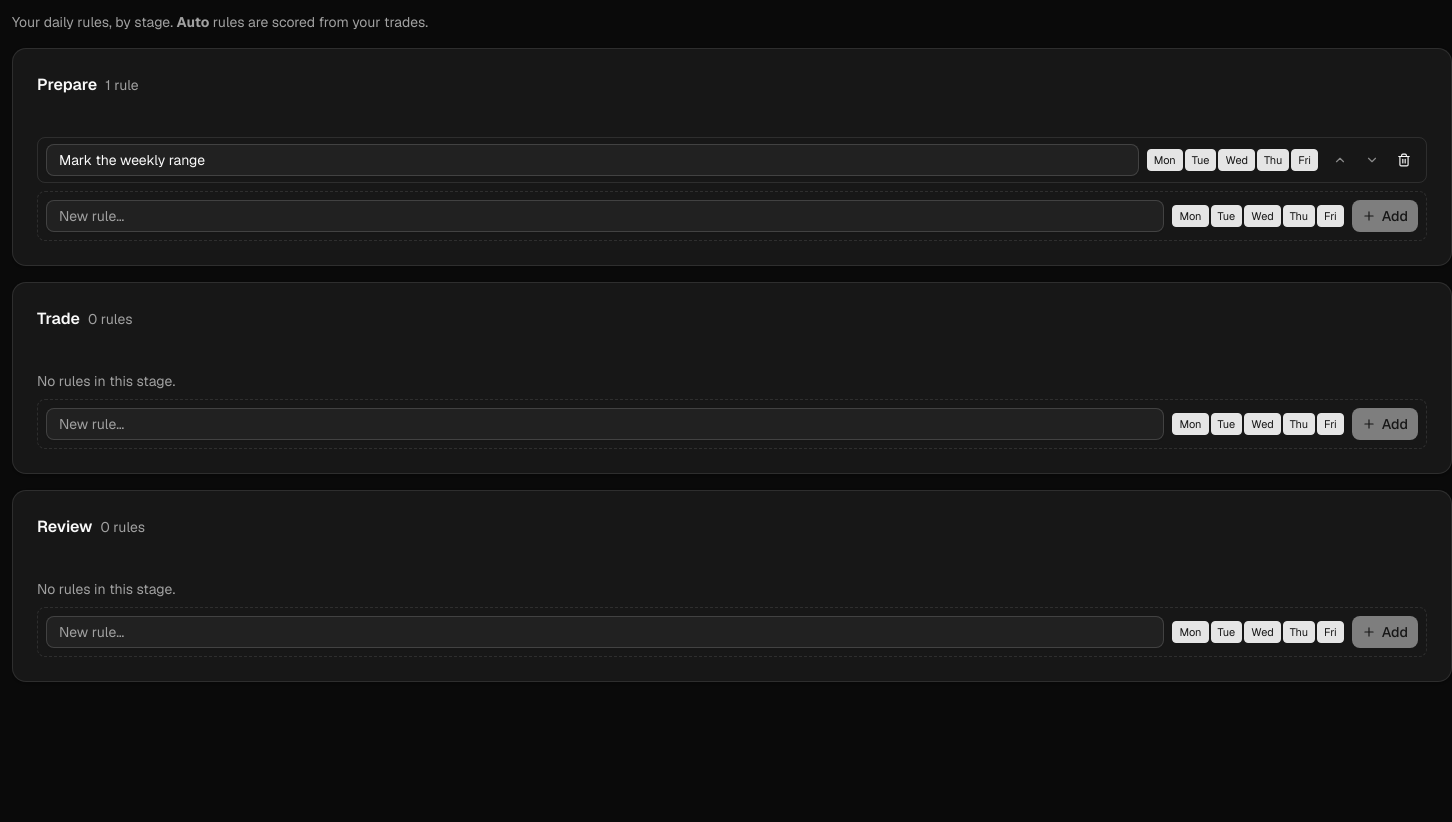
Test: the text box › an emptied rule keeps its text rather than saving a blank
The image size is (1452, 822).
Clear the field showing "Mark the weekly range" at (592, 160), box x1=46 y1=144 x2=1139 y2=176
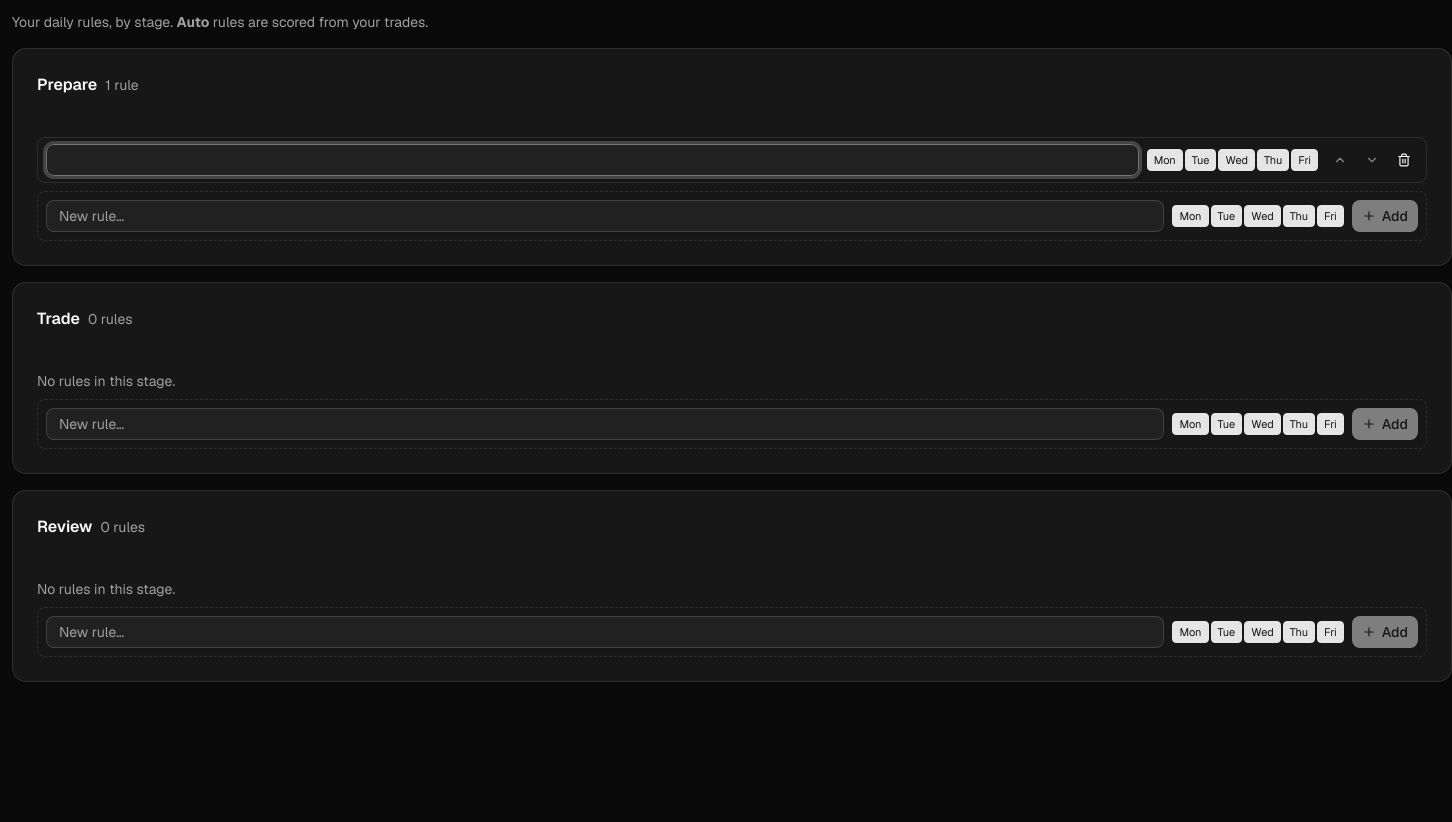
Press Tab
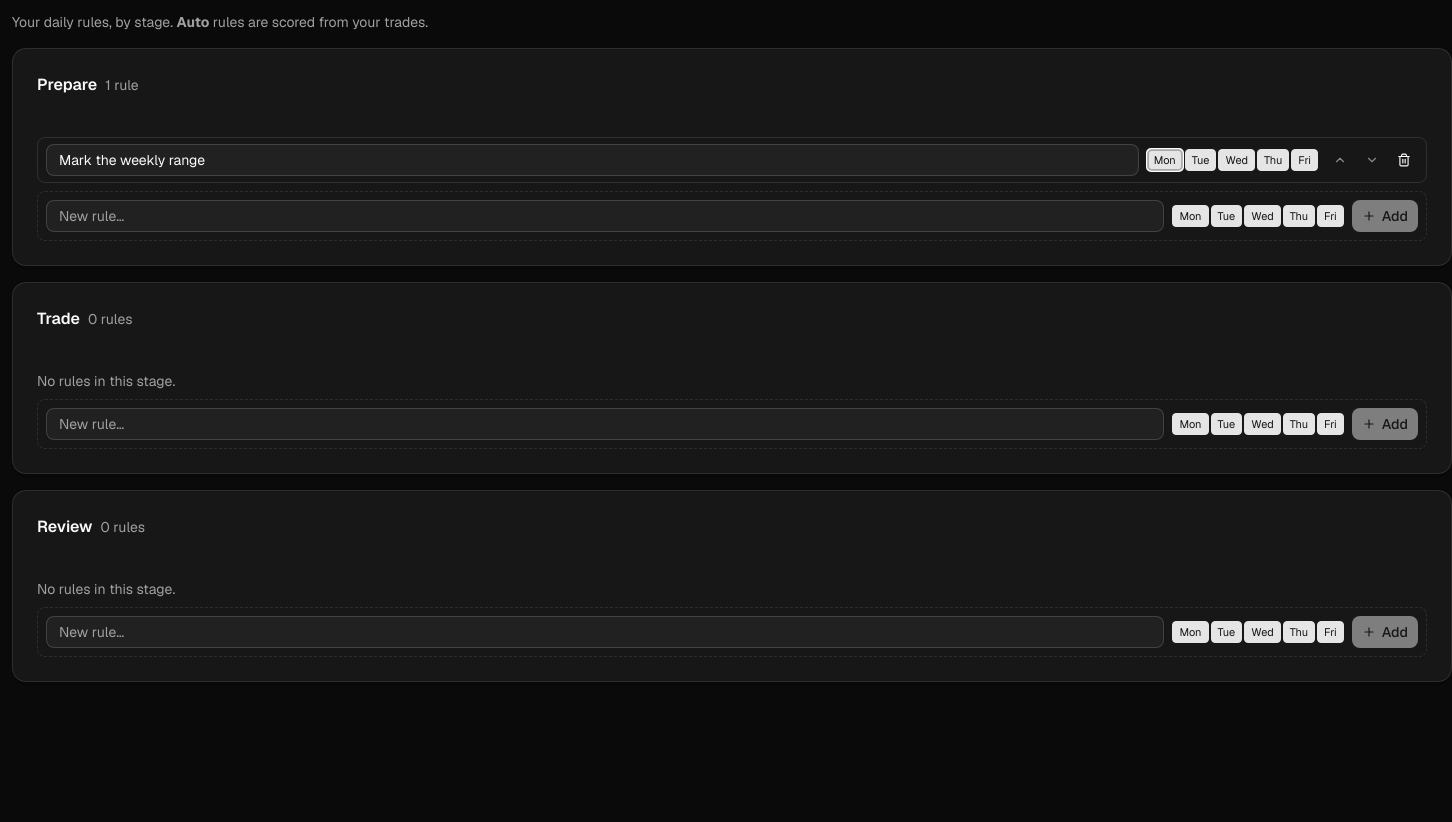
Expected: the field showing "Mark the weekly range" is shown, x1=46 y1=144 x2=1139 y2=176
